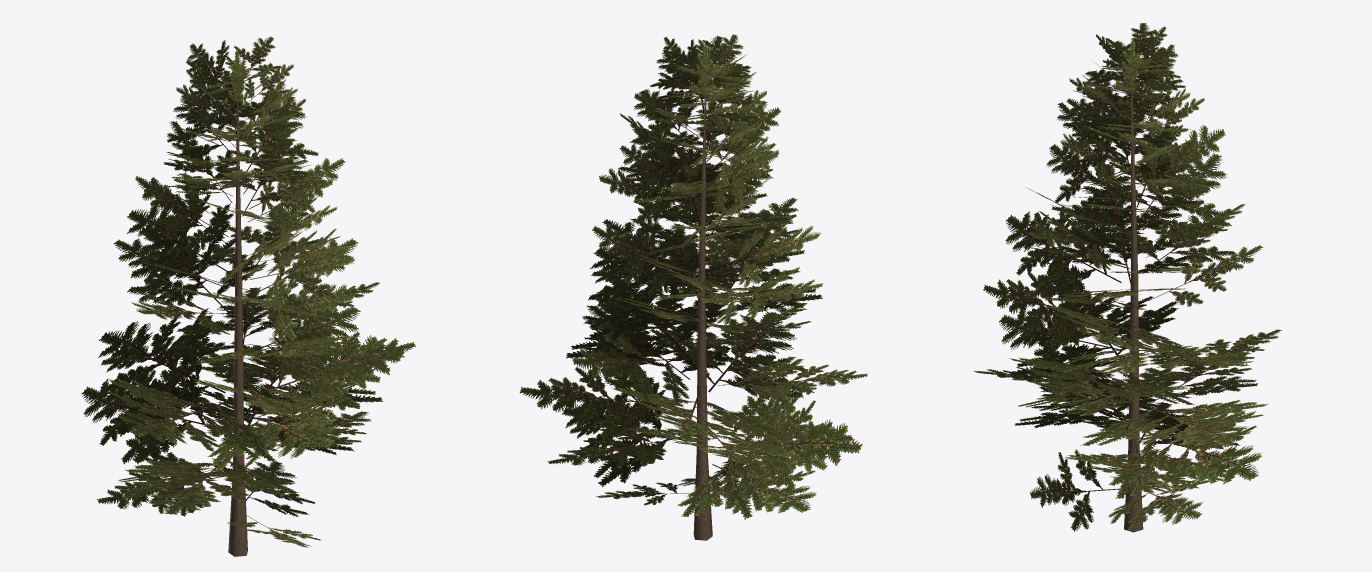
File: fir_small_a_lod4.gltf
3 views of the same model, side by side, from view 1: azimuth 30°, elevation 25°; view 2: azimuth 150°, elevation 25°; view 3: azimuth 270°, elevation 25° (orthographic). The views are drawn at different scales.
Parts seen in each view (by area): view 1: fir_small_a_LOD4; view 2: fir_small_a_LOD4; view 3: fir_small_a_LOD4.
Part boxes in pixels (x1=…): fir_small_a_LOD4: x1=81, y1=36, x2=415, y2=556; fir_small_a_LOD4: x1=519, y1=34, x2=867, y2=540; fir_small_a_LOD4: x1=973, y1=23, x2=1281, y2=532.
Size of the model in its own units: 9.23 by 11.46 by 8.97.
Materials: 2 (2 with a texture image).
